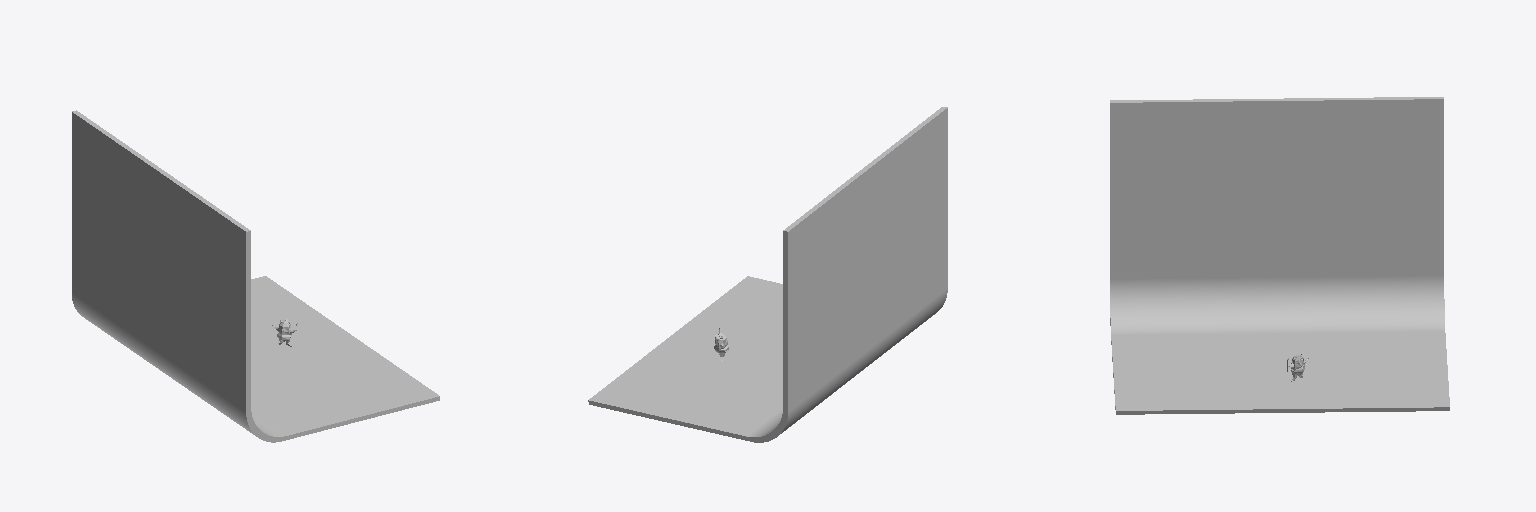
The model's file is sundevil2.obj.
3 views of the same model, side by side, from view 1: azimuth 30°, elevation 25°; view 2: azimuth 150°, elevation 25°; view 3: azimuth 270°, elevation 25° (orthographic).
Visible parts, largest first — view 1: Line01; view 2: Line01; view 3: Line01.
Part boxes in pixels (bbox=[...]): Line01: bbox=[72, 110, 439, 442]; Line01: bbox=[588, 107, 947, 442]; Line01: bbox=[1110, 97, 1449, 414].
Bounding box in the file's own units: 263 × 269 × 379.